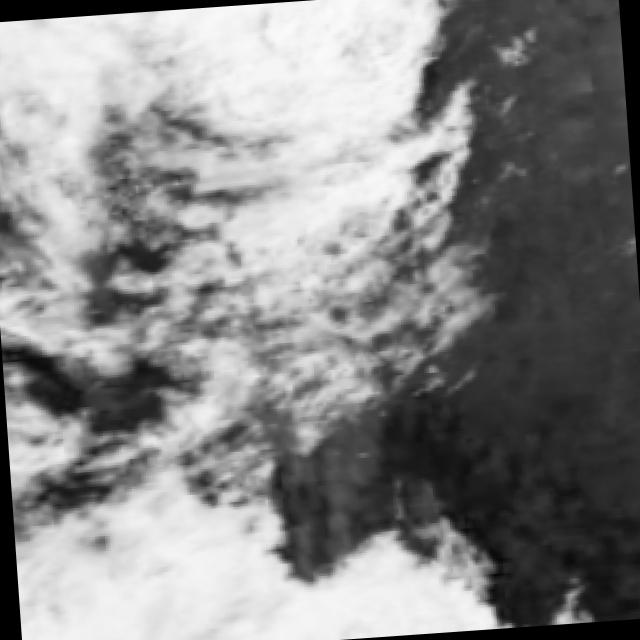CB: (15, 539, 242, 640), (205, 0, 400, 101)
